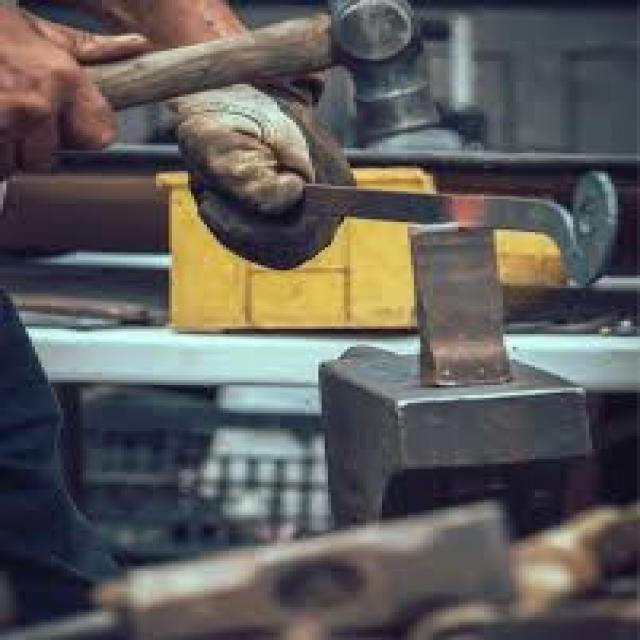hammer: (27, 0, 454, 143)
